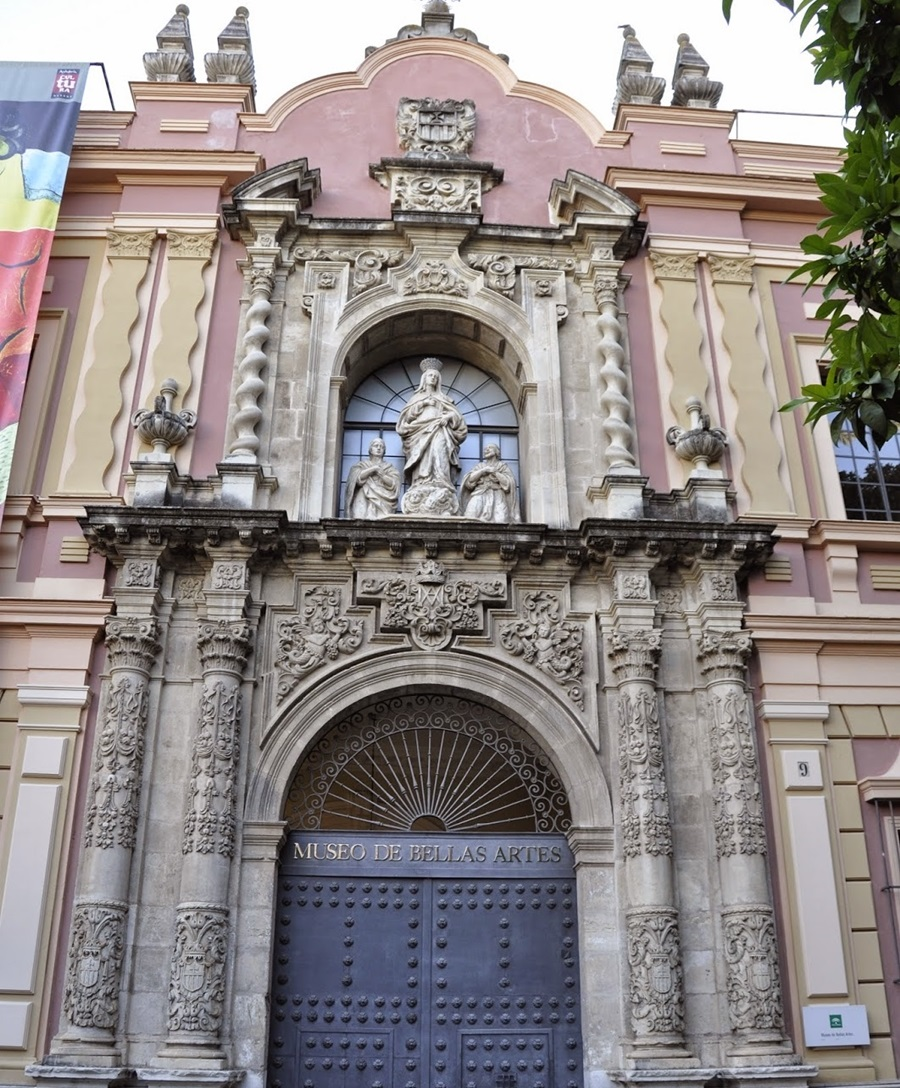arco-medio-punto: (258, 652, 600, 898), (326, 295, 540, 413)
columna-salomonica: (223, 278, 276, 458), (592, 297, 642, 478)
fronton-partido: (224, 155, 648, 241)
